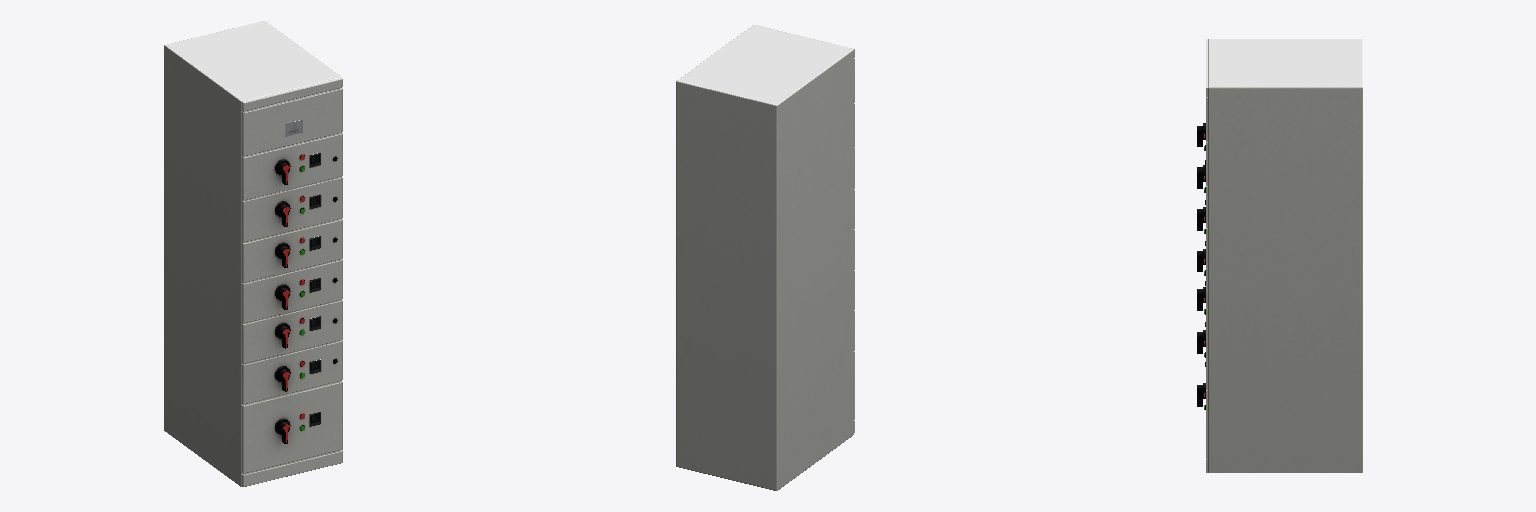
The picture shows the model from 3 angles: view 1: azimuth 30°, elevation 25°; view 2: azimuth 150°, elevation 25°; view 3: azimuth 270°, elevation 25°; orthographic projection.
Parts seen in each view (by area): view 1: ChamferBox05; view 2: ChamferBox05; view 3: ChamferBox05.
Part boxes in pixels (x1,y1,x2,y2): ChamferBox05: (164, 21, 342, 486); ChamferBox05: (676, 25, 854, 490); ChamferBox05: (1197, 39, 1362, 472).
Size of the model in its own units: 60.31 by 220 by 85.69.
Materials: 1 (1 with a texture image).